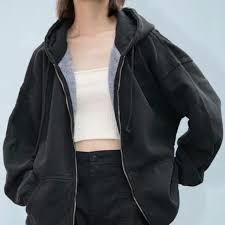sweater: (2, 5, 224, 224)
